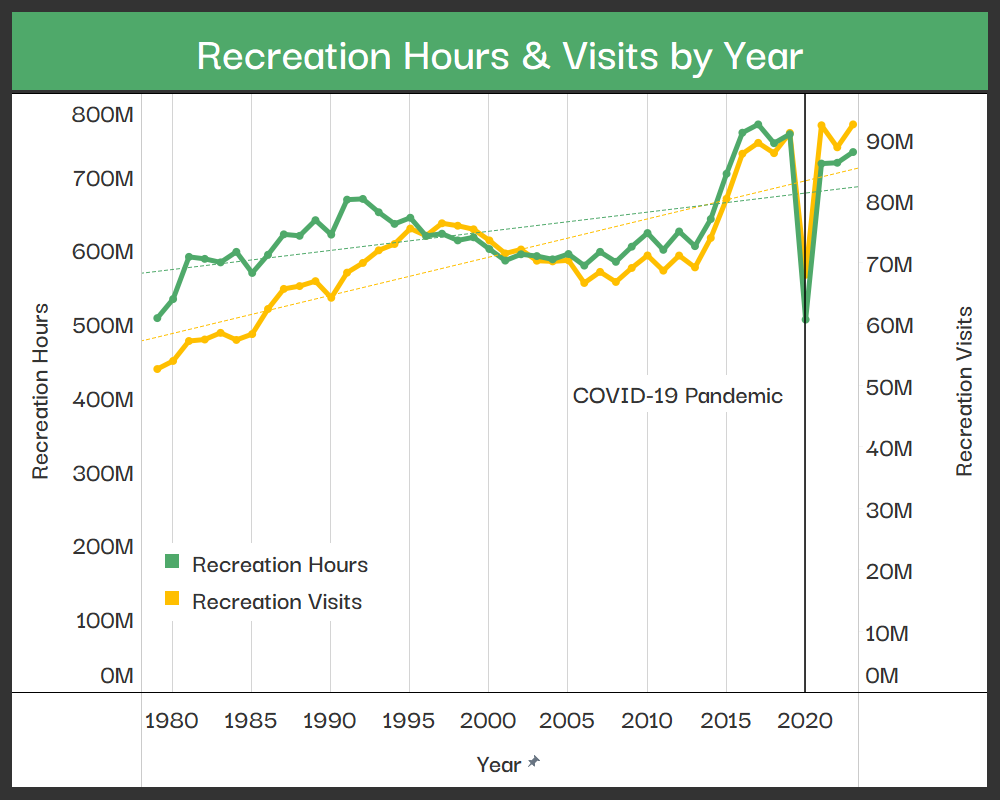

The page's visual inventory and layout, read from the dashboard file:
{"tool":"tableau","page":{"name":"RH by Year","canvas":[1000,800],"ordinal":2},"visuals":[{"type":"worksheet","title":"Recreation Hours by Year","mark":"Automatic","rows":["RecreationHours"],"cols":["Calculation_1088182269108641794"],"box":[8,8,984,784]}]}

Visuals, with their boxes in screenshot pixels (x1, y1, x2, y2), scaled from the page's 1000x800 canvas onto the 1000x800 screenshot:
"Recreation Hours by Year" worksheet: Rect(8, 8, 992, 792)
